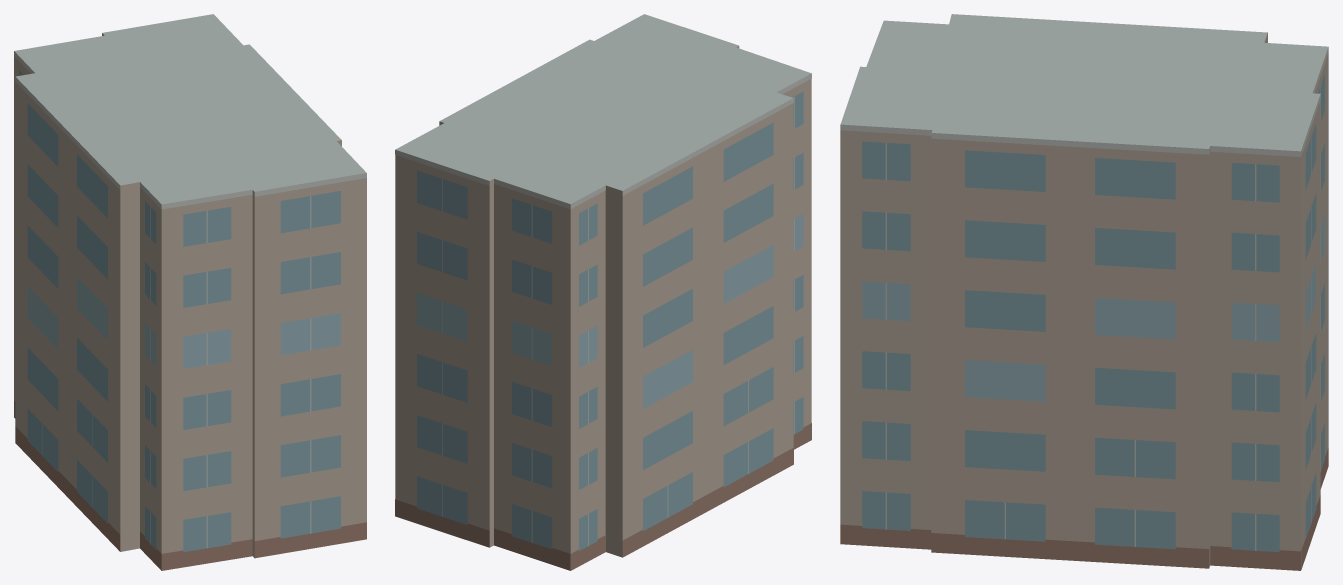
The model's file is survey-upis-32672303.glb.
3 renders of one model, left to right at view 1: azimuth 30°, elevation 25°; view 2: azimuth 150°, elevation 25°; view 3: azimuth 270°, elevation 25°, orthographic. The views are drawn at different scales.
Parts seen in each view (by area): view 1: survey-upis-32672303.tmp; view 2: survey-upis-32672303.tmp; view 3: survey-upis-32672303.tmp.
Boxes of the visible parts, x1=… form: survey-upis-32672303.tmp: x1=14, y1=14, x2=366, y2=570; survey-upis-32672303.tmp: x1=395, y1=14, x2=811, y2=570; survey-upis-32672303.tmp: x1=840, y1=14, x2=1328, y2=570.
Bounding box in the file's own units: 12.5 × 17.8 × 18.78.
